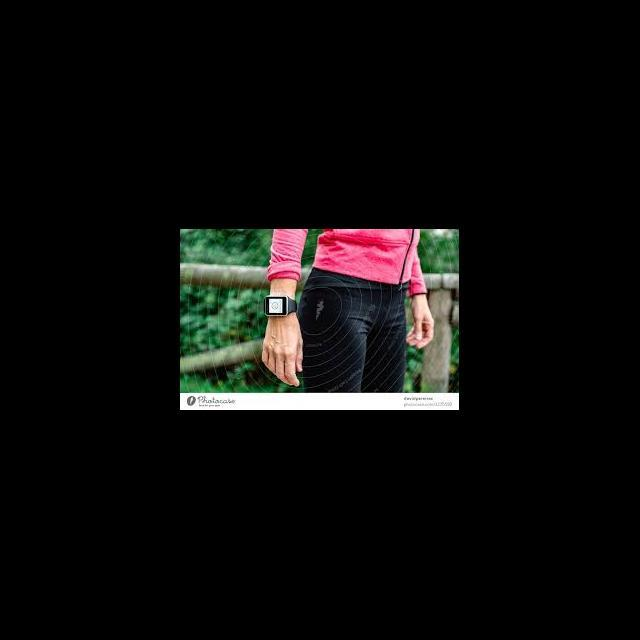watch: (242, 283, 305, 332)
